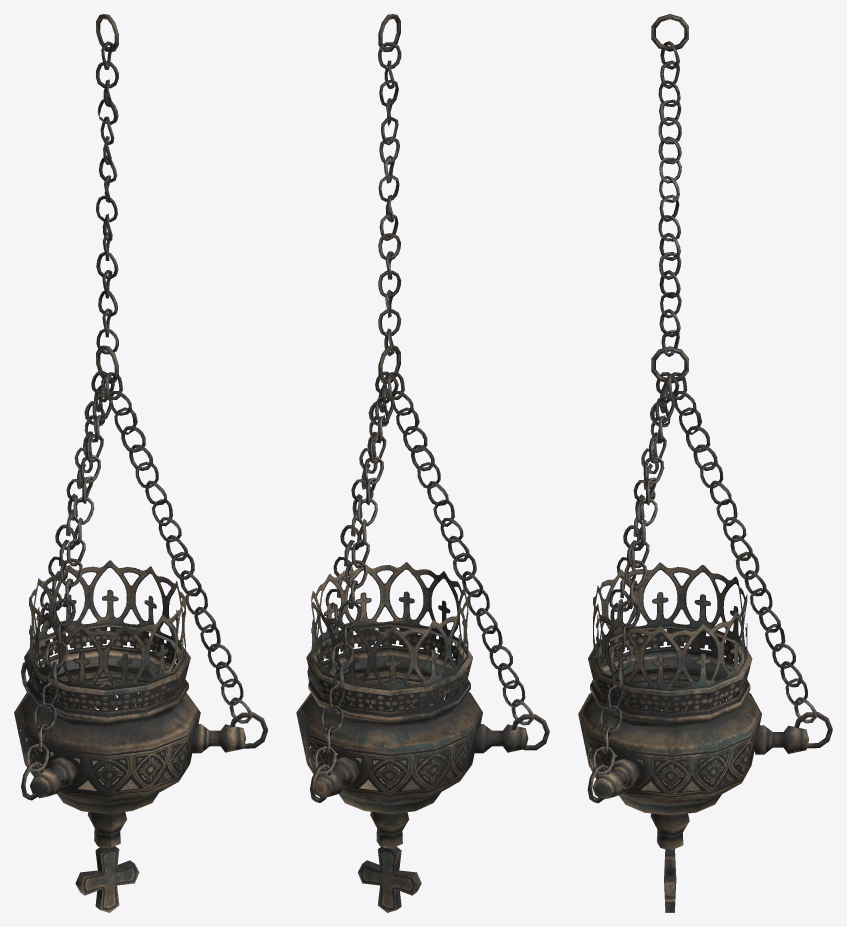
Rendered from pot_3.glb.
The picture shows the model from 3 angles, left to right: view 1: azimuth 30°, elevation 25°; view 2: azimuth 150°, elevation 25°; view 3: azimuth 270°, elevation 25°; orthographic projection.
Parts seen in each view (by area): view 1: Censer01; view 2: Censer01; view 3: Censer01.
Part boxes in pixels (x1,y1,x2,y2): Censer01: (14,14,267,912); Censer01: (296,14,549,912); Censer01: (578,14,832,912).
Size of the model in its own units: 3.13 by 10.95 by 2.81.
1 material, 1 textured.
